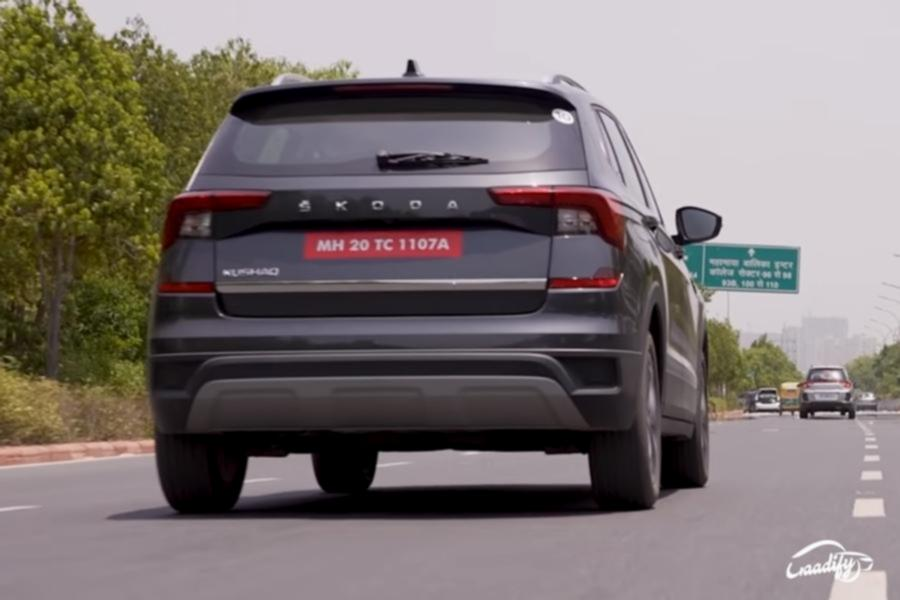skoda: (286, 190, 474, 219)
